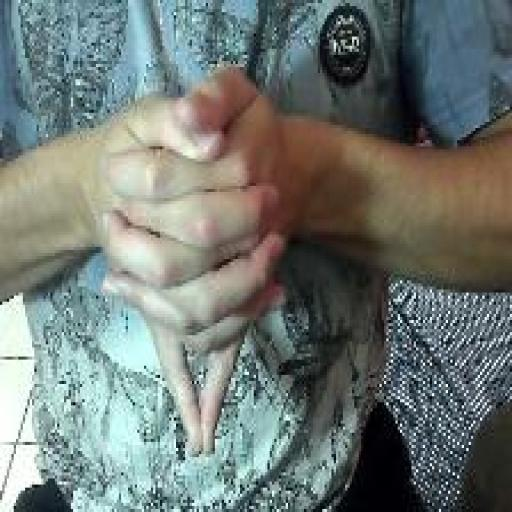Tatsu -dragon-: (95, 61, 294, 463)
